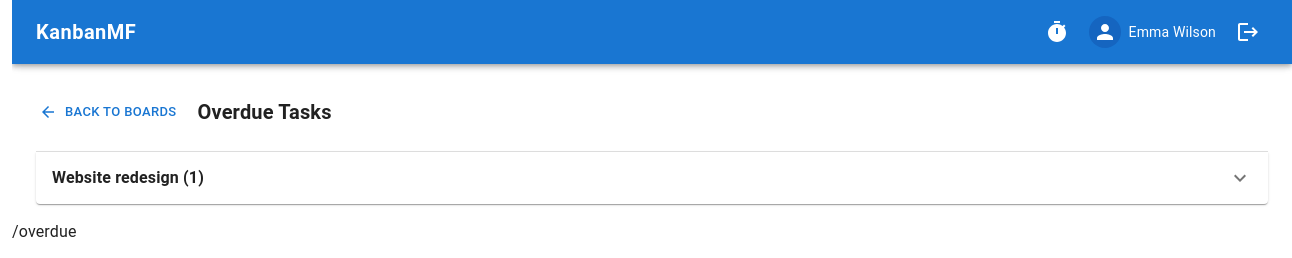
it: OverdueTasks › going back › goes back to the boards from a link, which can also open them in a new tab
Expected: the button "Website redesign (1)" is shown, left=36, top=152, right=1268, bottom=204
Click the link "Back to Boards": [108, 112] box left=39, top=103, right=177, bottom=121
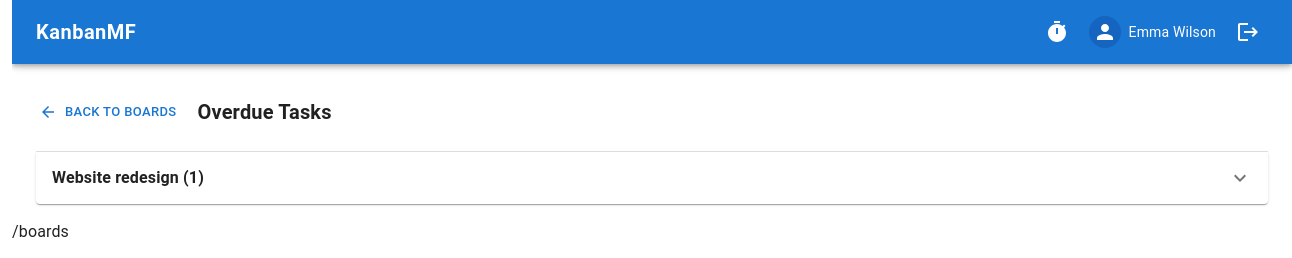
Expected: the text with test id "address" reads "/boards", left=12, top=222, right=69, bottom=241
